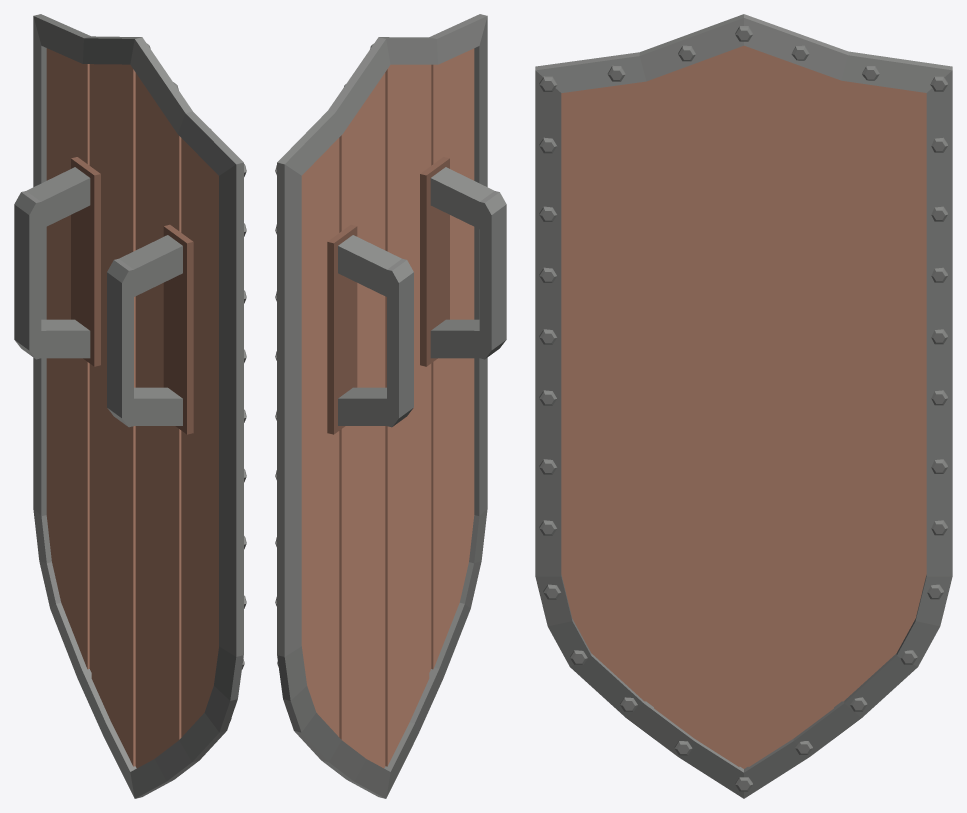
The model's file is Shield E.glb.
The picture shows the model from 3 angles, left to right: view 1: azimuth 30°, elevation 25°; view 2: azimuth 150°, elevation 25°; view 3: azimuth 270°, elevation 25°; orthographic projection. The views are drawn at different scales.
Parts seen in each view (by area): view 1: Shield E; view 2: Shield E; view 3: Shield E.
Part boxes in pixels (x1=…): Shield E: x1=14, y1=14, x2=246, y2=798; Shield E: x1=275, y1=14, x2=506, y2=798; Shield E: x1=535, y1=14, x2=952, y2=798.
Size of the model in its own units: 0.0673 by 0.6079 by 0.2942.
